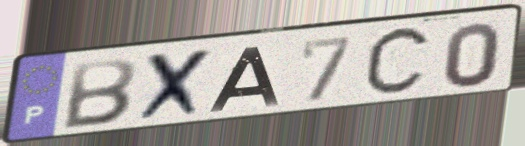0: (438, 18, 505, 90)
7: (296, 32, 353, 105)
A: (206, 45, 284, 114)
B: (58, 56, 140, 131)
C: (359, 22, 435, 103)
X: (133, 45, 217, 126)
